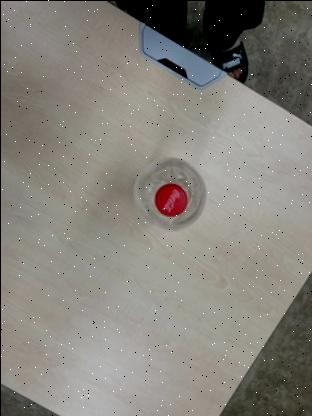Plastic Bottle: (131, 150, 209, 236)
